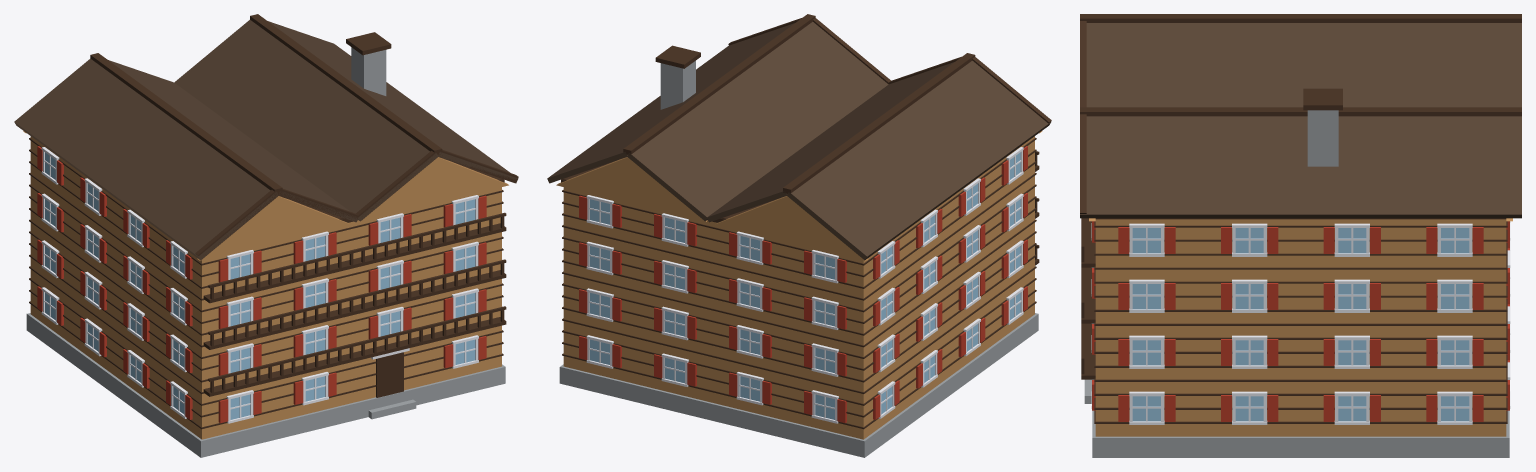
Rendered from house-2x2-4f-chalet-a.glb.
The picture shows the model from 3 angles, left to right: view 1: azimuth 30°, elevation 25°; view 2: azimuth 150°, elevation 25°; view 3: azimuth 270°, elevation 25°; orthographic projection. The views are drawn at different scales.
Visible parts, largest first — view 1: house-2x2-4f-chalet-a; view 2: house-2x2-4f-chalet-a; view 3: house-2x2-4f-chalet-a.
Part boxes in pixels (x1,y1,x2,y2): house-2x2-4f-chalet-a: (14, 14, 518, 457); house-2x2-4f-chalet-a: (547, 14, 1051, 457); house-2x2-4f-chalet-a: (1080, 14, 1521, 457).
Bounding box in the file's own units: 2.01 × 1.68 × 2.
1 material, 1 textured.
